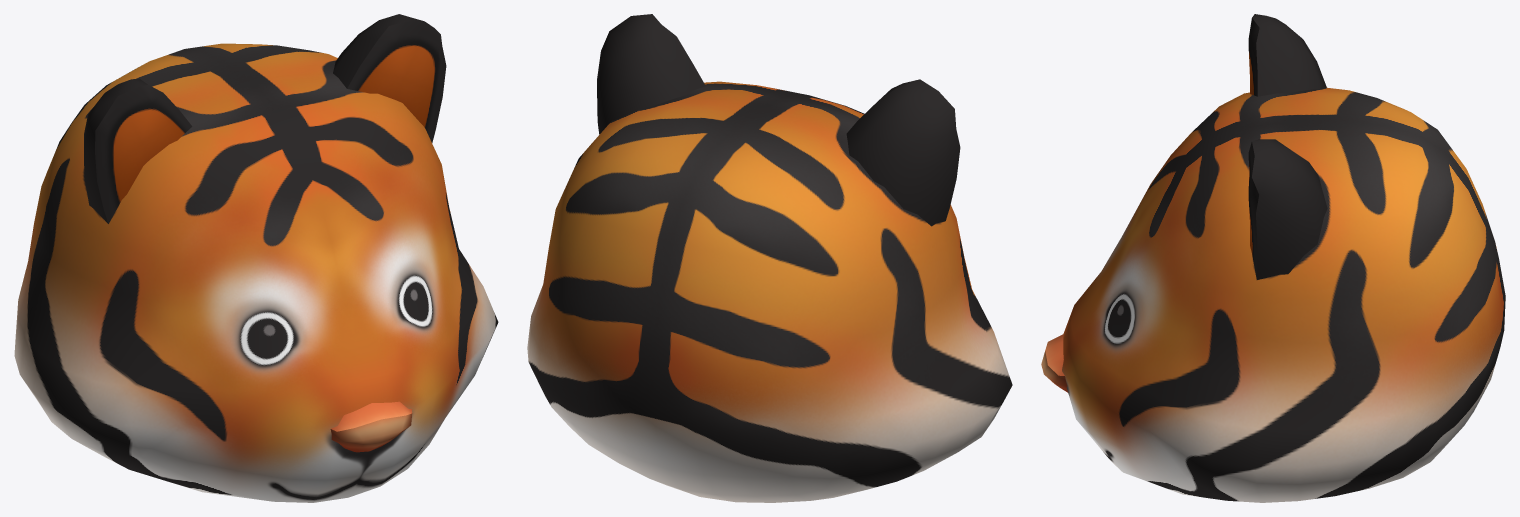
File: tiger.FBX
3 renders of one model, left to right at view 1: azimuth 30°, elevation 25°; view 2: azimuth 150°, elevation 25°; view 3: azimuth 270°, elevation 25°, orthographic. The views are drawn at different scales.
Parts seen in each view (by area): view 1: tiger; view 2: tiger; view 3: tiger.
Boxes of the visible parts, <box> form: tiger: <box>14,14,498,502</box>; tiger: <box>527,14,1012,502</box>; tiger: <box>1041,14,1505,502</box>.
Bounding box in the file's own units: 36.46 × 32.94 × 36.
